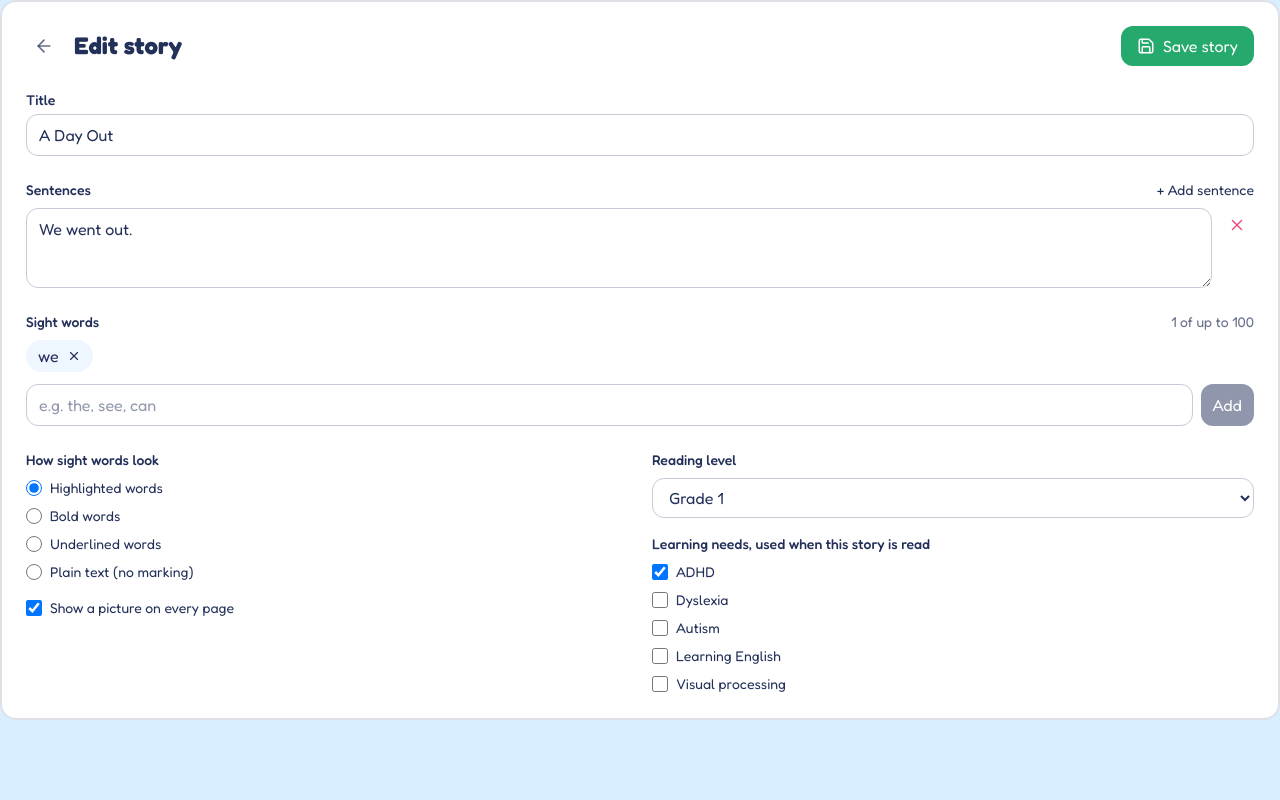
Test case: StoryEditor › explains what stops a save instead of sending it
Clear the field labelled "Title" at [640, 135], box x1=26 y1=114 x2=1254 y2=156
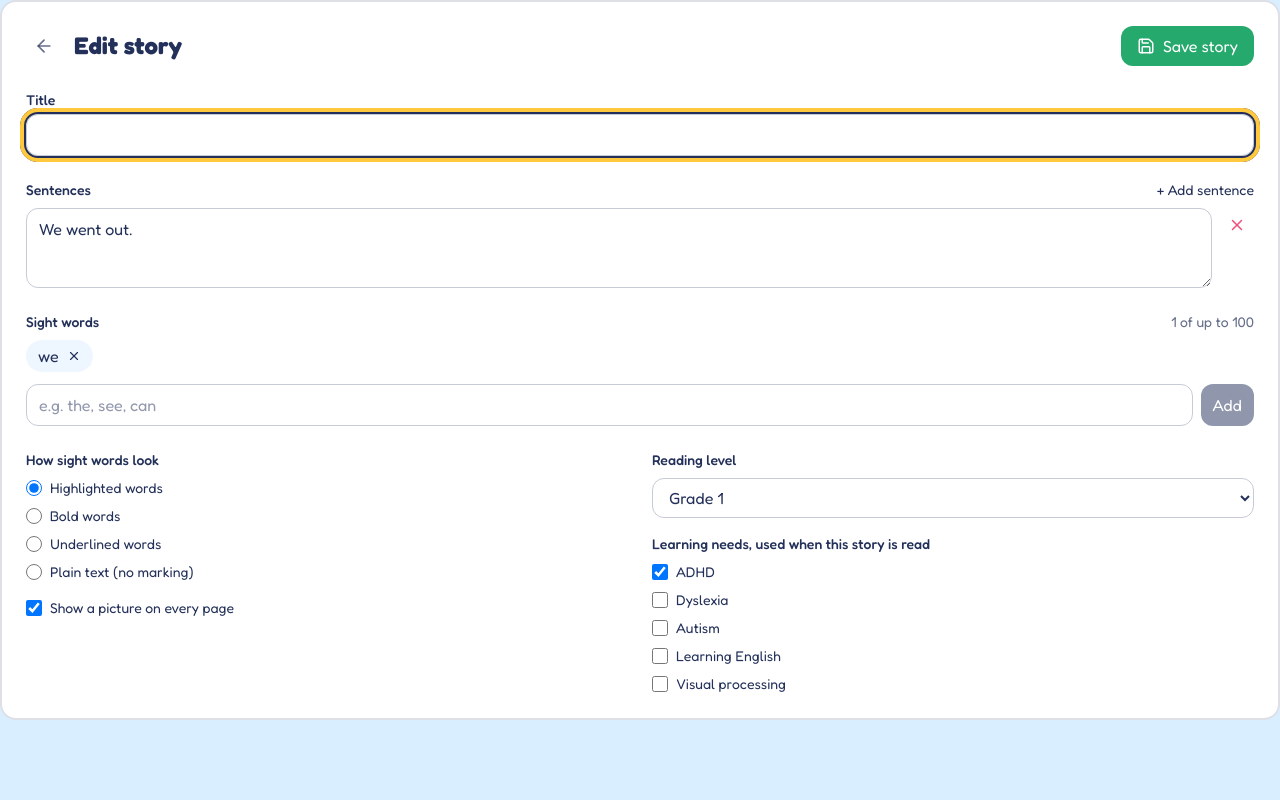
Click the button "Save story" at [1187, 46], box x1=1121 y1=26 x2=1254 y2=66
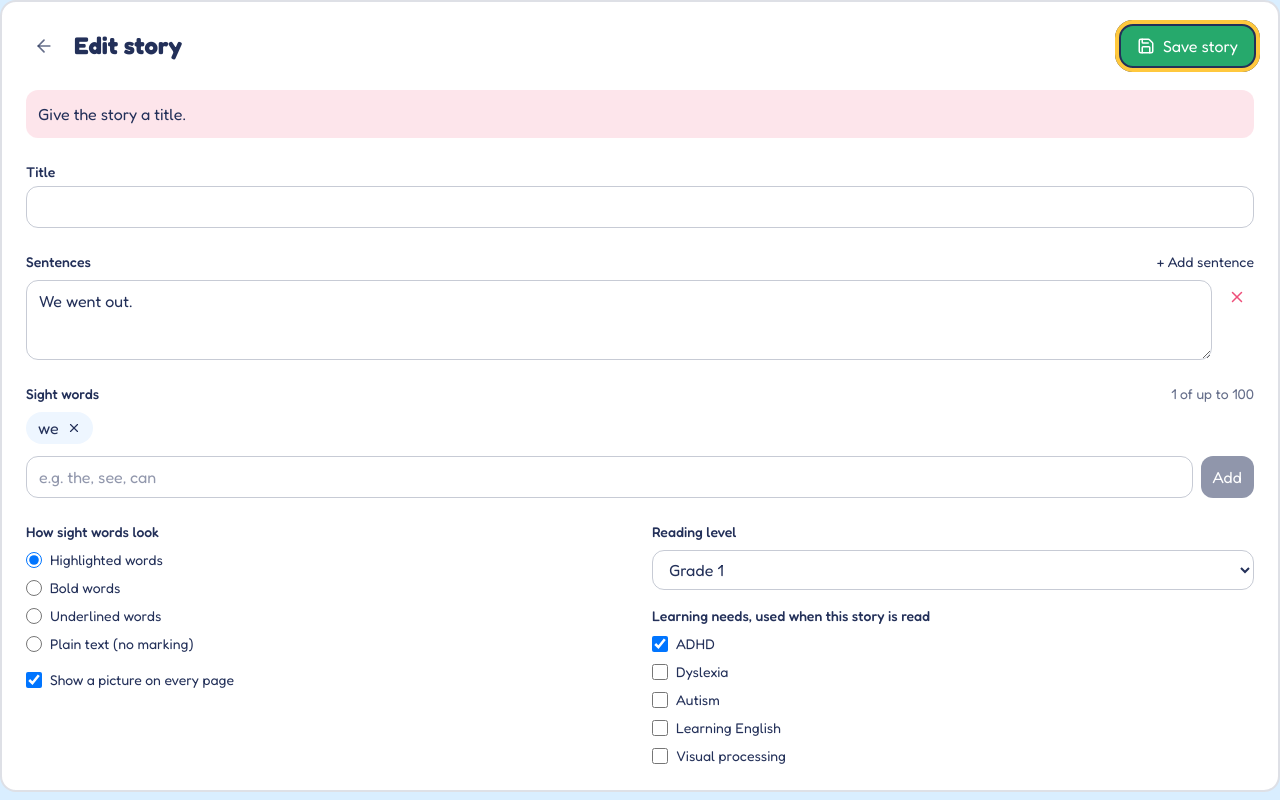
Check: the message reads "Give the story a title.", box x1=38 y1=104 x2=186 y2=124
